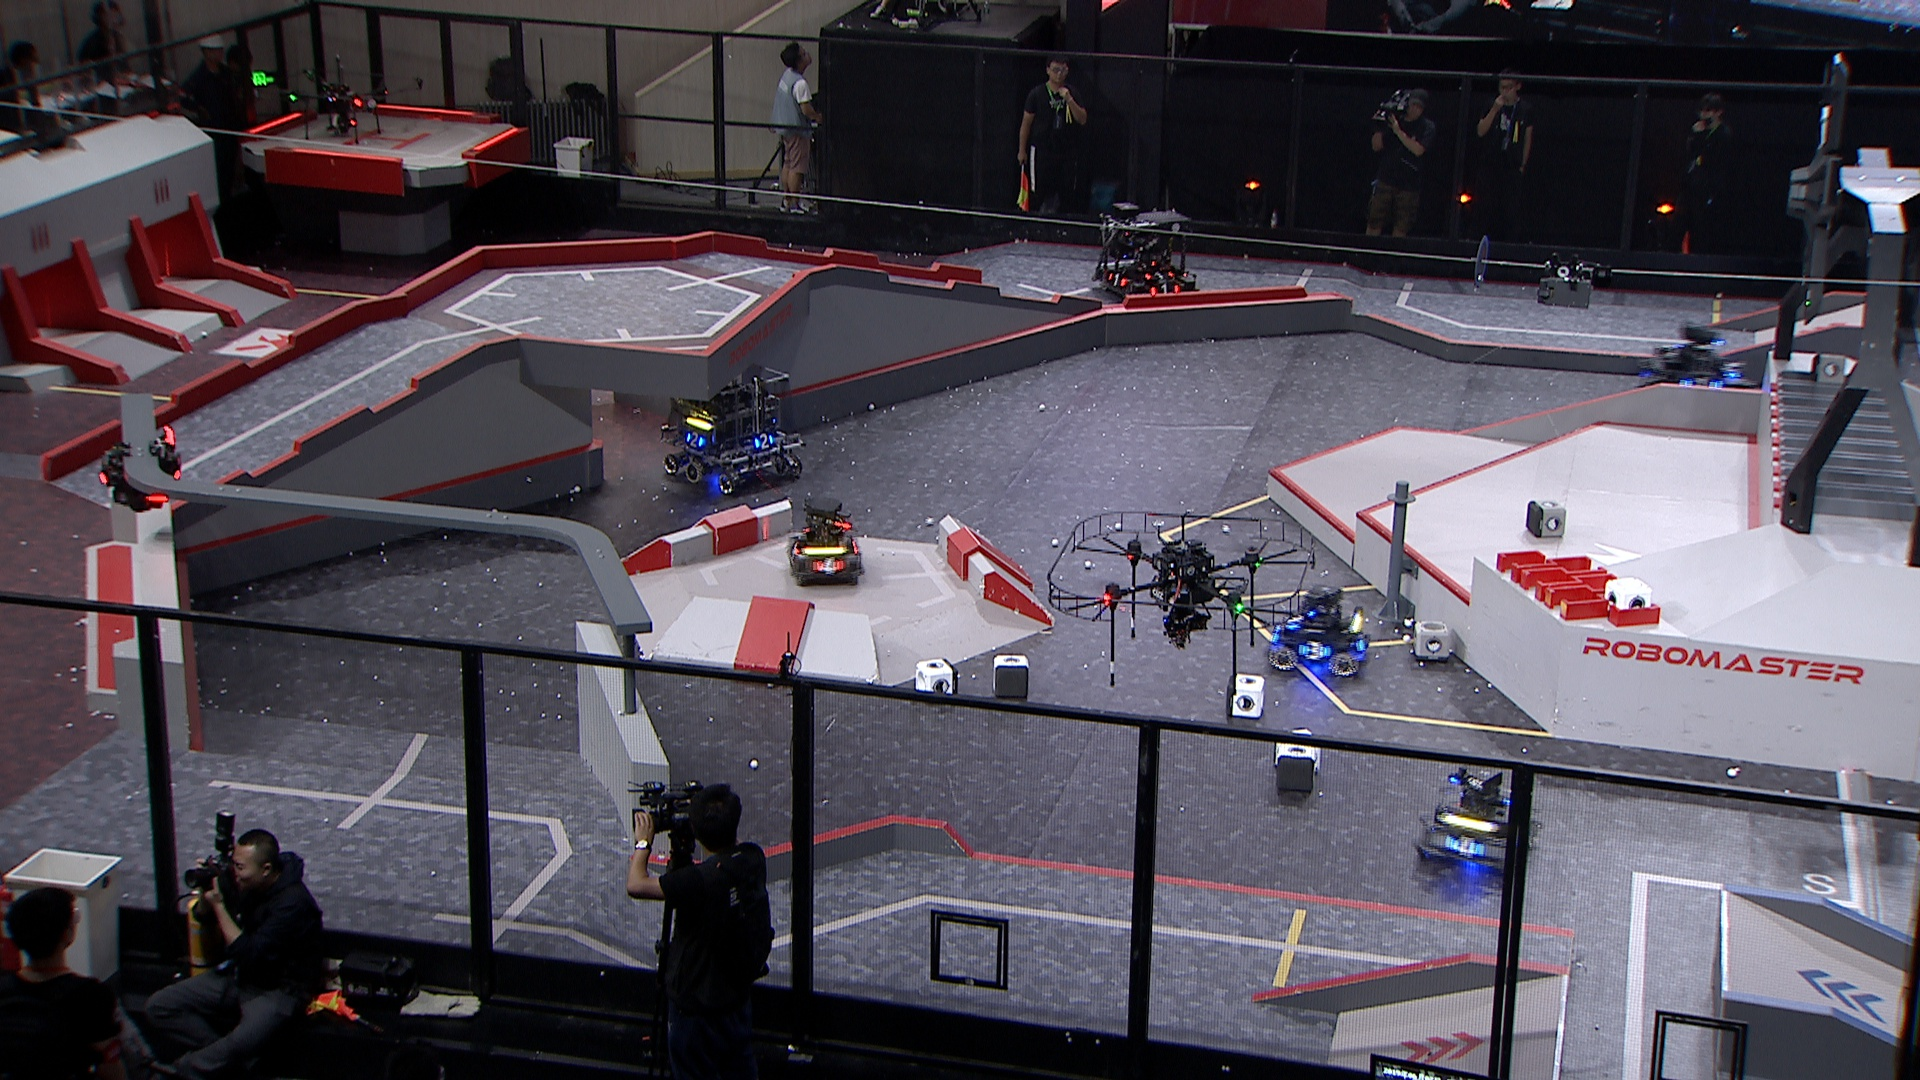armor: (1443, 833, 1485, 860), (1298, 638, 1333, 662), (811, 556, 845, 578), (1677, 375, 1722, 386), (1280, 611, 1304, 632), (1143, 268, 1178, 282), (1717, 363, 1745, 380), (752, 433, 775, 452), (684, 431, 705, 452), (1352, 633, 1371, 655), (1149, 284, 1182, 295), (1106, 270, 1127, 287)
car: (657, 363, 807, 495), (1408, 766, 1543, 878), (1091, 208, 1200, 309), (1636, 318, 1756, 406), (1269, 585, 1373, 678), (785, 498, 865, 589)
watcher: (96, 425, 183, 514)
